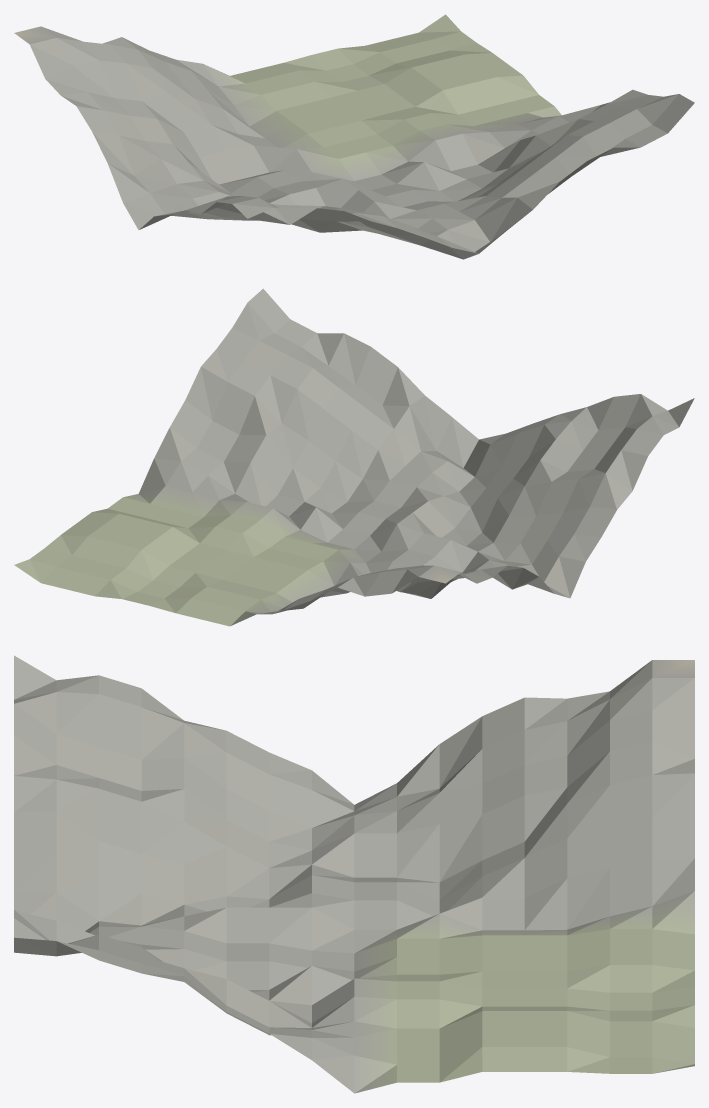
The picture shows the model from 3 angles, top to bottom: view 1: azimuth 30°, elevation 25°; view 2: azimuth 150°, elevation 25°; view 3: azimuth 270°, elevation 25°; orthographic projection. The views are drawn at different scales.
Bounding box in the file's own units: 32 × 8.35 × 32.
